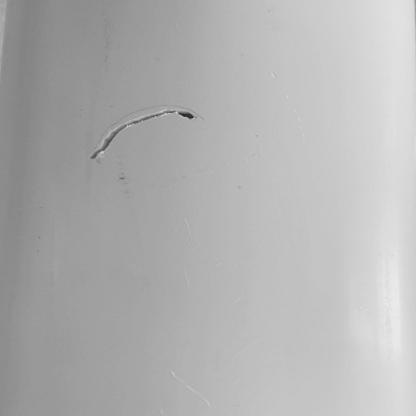fengxi: (90, 107, 198, 160)
